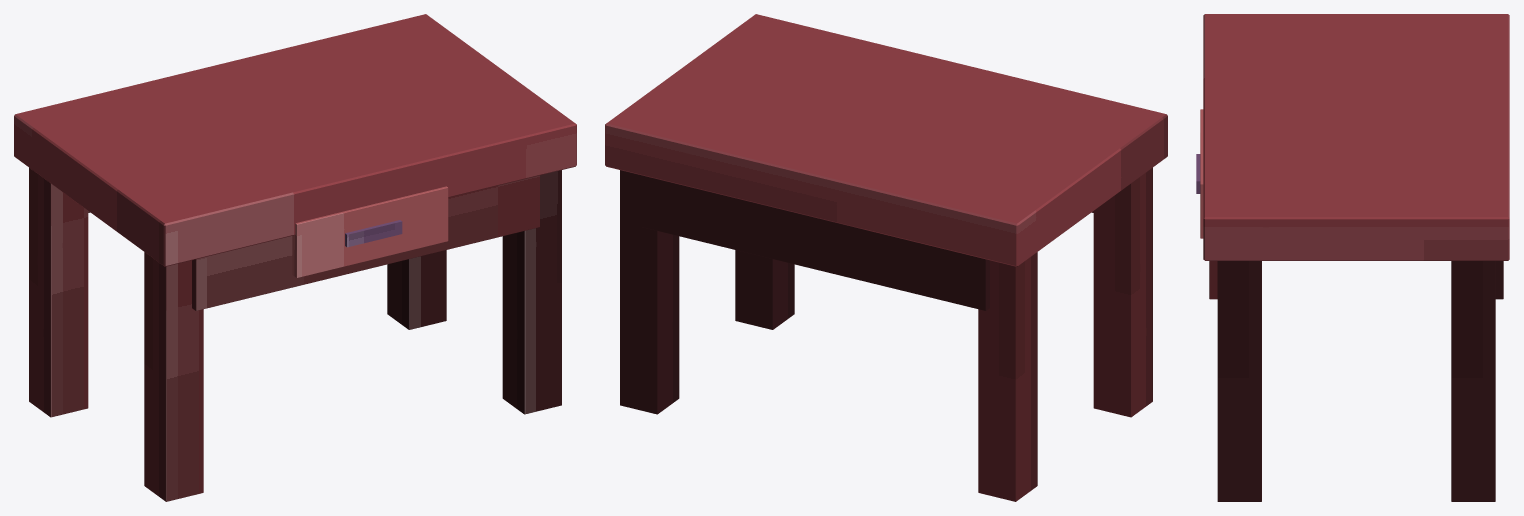
File: wooden_table_mahogany.glb
3 renders of one model, left to right at view 1: azimuth 30°, elevation 25°; view 2: azimuth 150°, elevation 25°; view 3: azimuth 270°, elevation 25°, orthographic.
Parts seen in each view (by area): view 1: TableTop, TableLeg_1, TableLeg_3, TableLeg_2, FrontApron, TableDrawer, TableLeg_4, DrawerHandle; view 2: TableTop, BackApron, TableLeg_3, TableLeg_1, TableLeg_4, TableLeg_2; view 3: TableTop, TableLeg_2, TableLeg_4, TableDrawer.
Part boxes in pixels (bbox=[...]): TableTop: bbox=[14, 14, 576, 266]; TableLeg_1: bbox=[144, 252, 203, 501]; TableLeg_3: bbox=[29, 167, 88, 417]; TableLeg_2: bbox=[502, 170, 561, 414]; FrontApron: bbox=[192, 175, 539, 310]; TableDrawer: bbox=[292, 186, 448, 277]; TableLeg_4: bbox=[387, 250, 446, 329]; DrawerHandle: bbox=[345, 220, 402, 247]; TableTop: bbox=[605, 14, 1167, 266]; BackApron: bbox=[642, 175, 989, 310]; TableLeg_3: bbox=[978, 252, 1037, 501]; TableLeg_1: bbox=[1093, 167, 1152, 417]; TableLeg_4: bbox=[620, 170, 679, 414]; TableLeg_2: bbox=[735, 250, 794, 329]; TableTop: bbox=[1203, 14, 1509, 260]; TableLeg_2: bbox=[1217, 261, 1261, 501]; TableLeg_4: bbox=[1451, 261, 1495, 501]; TableDrawer: bbox=[1200, 109, 1203, 238].
Size of the model in its own units: 1.2 by 0.79 by 0.778.
1 material, 1 textured.
